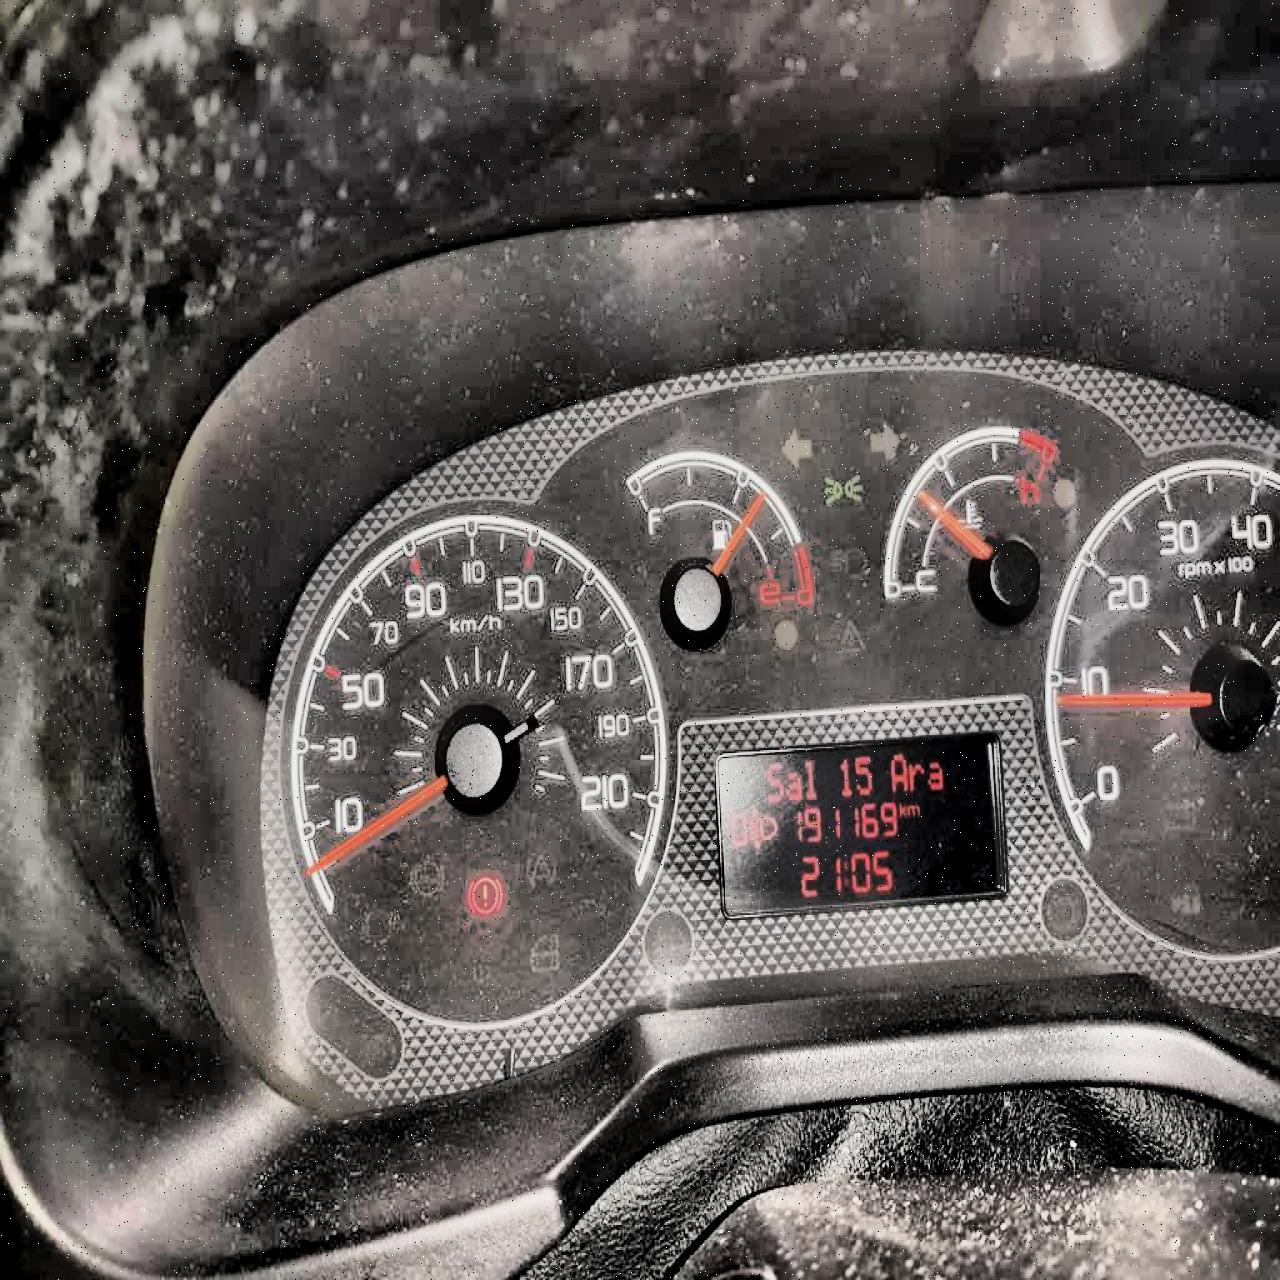0: (851, 850, 870, 893), (729, 811, 748, 846)
1: (839, 755, 851, 799), (832, 852, 843, 898), (832, 803, 844, 839), (851, 801, 860, 842), (795, 805, 803, 840)
2: (799, 853, 821, 899)
5: (871, 846, 892, 892), (855, 751, 874, 795)
6: (862, 799, 878, 838)
9: (804, 803, 822, 842), (880, 798, 896, 835)
X: (890, 750, 907, 794), (765, 758, 783, 799), (803, 757, 818, 801), (926, 756, 945, 791), (907, 758, 924, 791), (787, 770, 802, 799), (906, 799, 920, 818), (843, 855, 849, 888), (898, 797, 906, 817)
odometer: (710, 727, 1010, 920)
